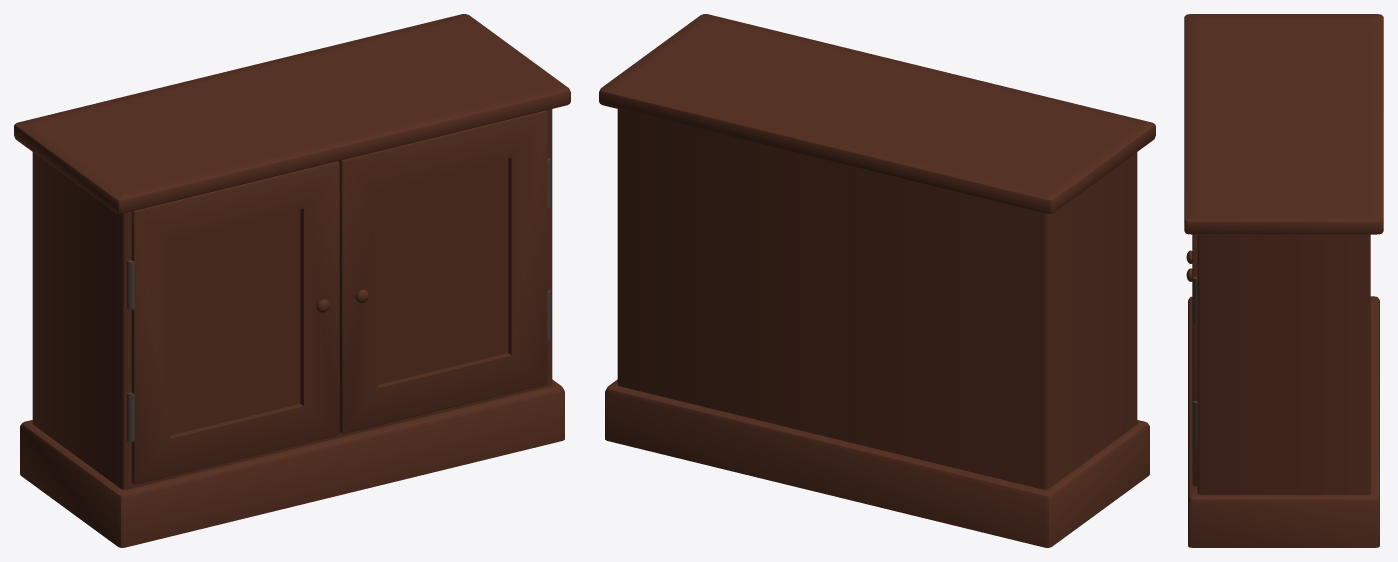
3 views of the same model, side by side, from view 1: azimuth 30°, elevation 25°; view 2: azimuth 150°, elevation 25°; view 3: azimuth 270°, elevation 25° (orthographic). The views are drawn at different scales.
Parts seen in each view (by area): view 1: Cabinet_Wood; view 2: Cabinet_Wood; view 3: Cabinet_Wood.
Part boxes in pixels (bbox=[...]): Cabinet_Wood: bbox=[14, 14, 570, 547]; Cabinet_Wood: bbox=[599, 14, 1155, 547]; Cabinet_Wood: bbox=[1184, 14, 1383, 547].
Bounding box in the file's own units: 1.26 × 0.9308 × 0.5115.
